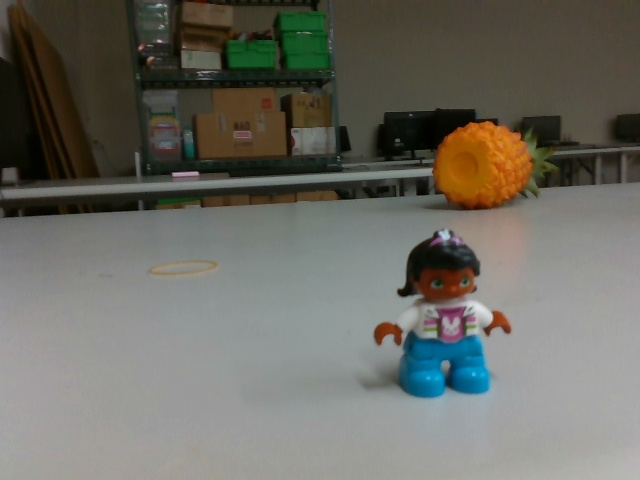people: (371, 223, 511, 399)
pineapple: (430, 116, 553, 208)
